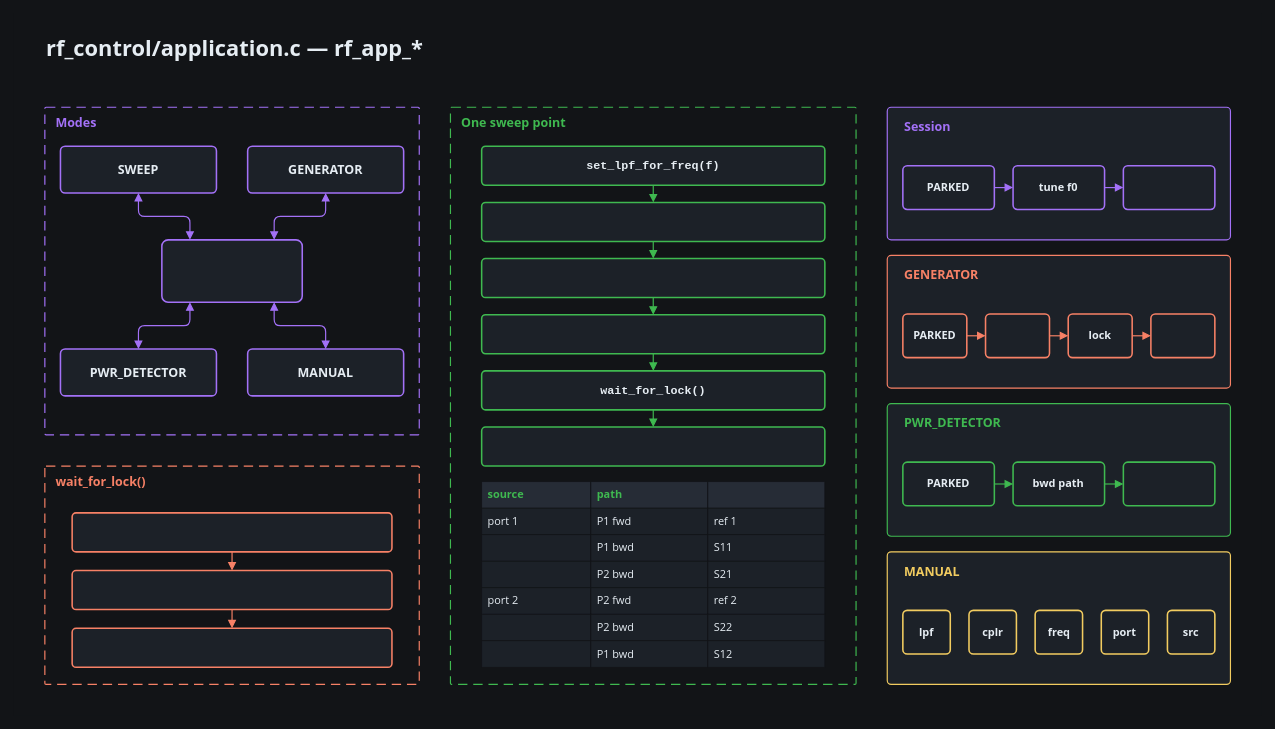
The diagram is 1275 pixels wide and 729 high, and some of its shapes have lost their labels. Each missing label, with the centre of its shape:
200 µs: the point at 652,446
cancelled() every 1 ms: the point at 231,647
coupler path · 100 µs: the point at 652,334
IDLE: the point at 232,271
LD high 500 µs: the point at 231,532
lock ≤ 2 s: the point at 1168,187
ON: the point at 1182,335
read: the point at 1168,483
set_freq(f): the point at 652,221
set_port() → ON: the point at 652,277
tune: the point at 1017,335
≤ 2 s first · ≤ 20 ms retune: the point at 231,589
